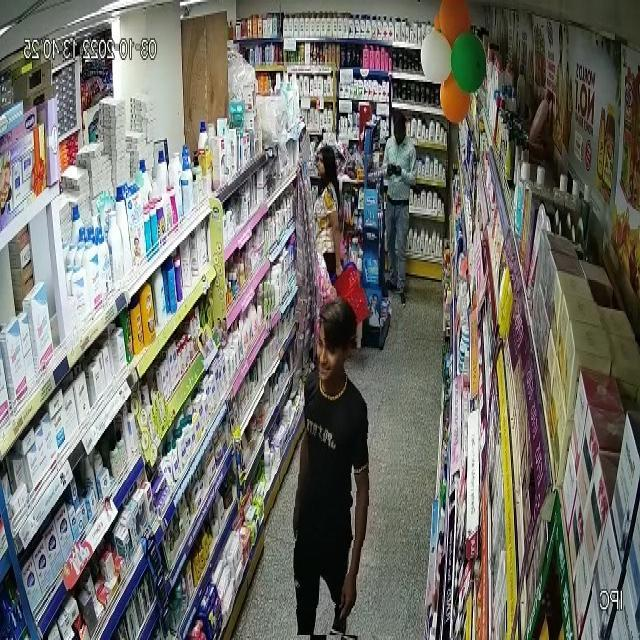Normal: (264, 286, 401, 635)
